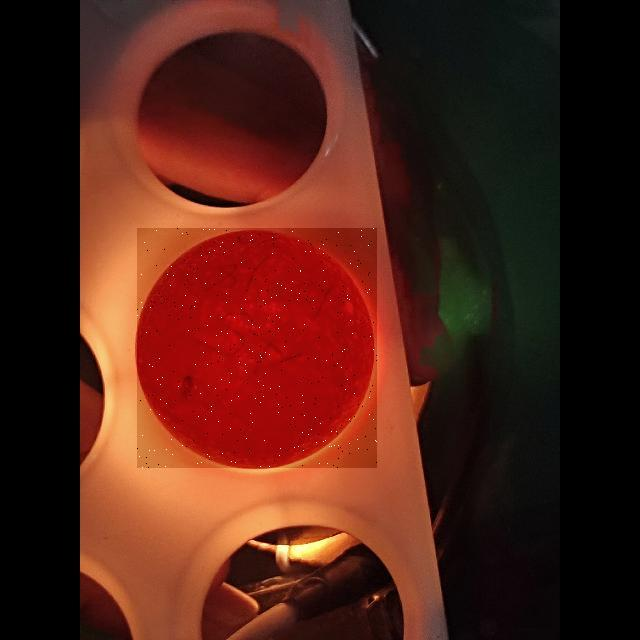Infertile: (137, 228, 377, 468)
